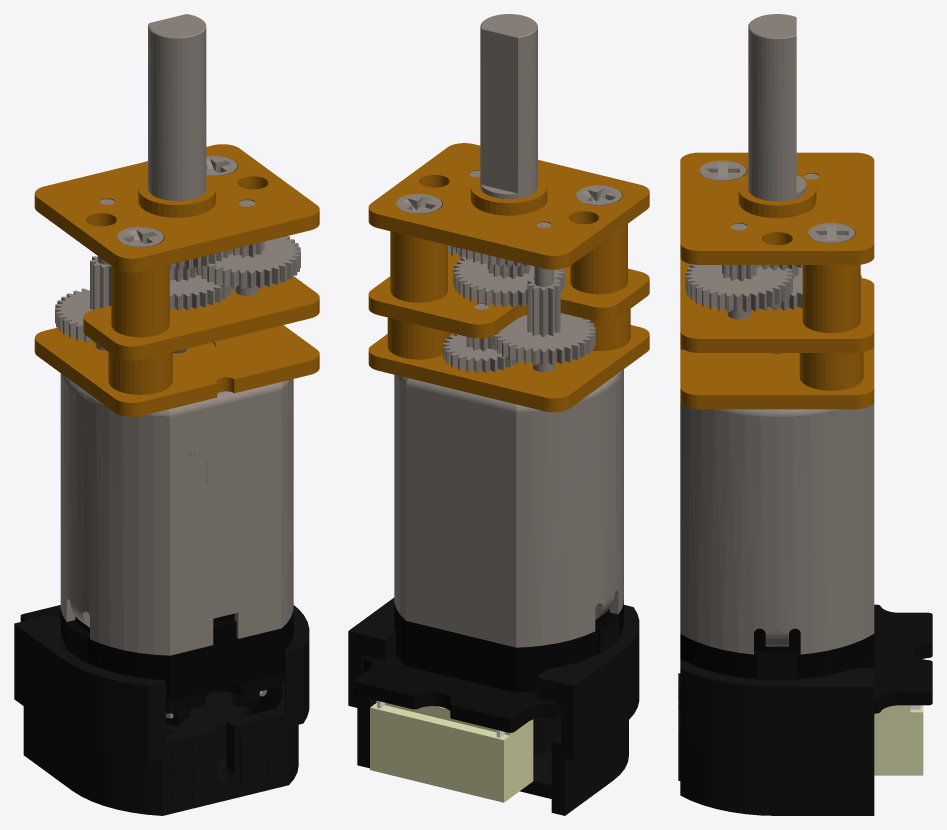
The model's file is pololu-micro-metal-gearmotor-encoder.glb.
The picture shows the model from 3 angles, left to right: view 1: azimuth 30°, elevation 25°; view 2: azimuth 150°, elevation 25°; view 3: azimuth 270°, elevation 25°; orthographic projection.
Visible parts, largest first — view 1: pololu-micro-metal-gearmotor-encoder; view 2: pololu-micro-metal-gearmotor-encoder; view 3: pololu-micro-metal-gearmotor-encoder.
Part boxes in pixels (left/top/right/bottom): pololu-micro-metal-gearmotor-encoder: left=14, top=14, right=319, bottom=815; pololu-micro-metal-gearmotor-encoder: left=348, top=14, right=649, bottom=815; pololu-micro-metal-gearmotor-encoder: left=678, top=14, right=932, bottom=815.
Bounding box in the file's own units: 13.6 × 42 × 13.1.
